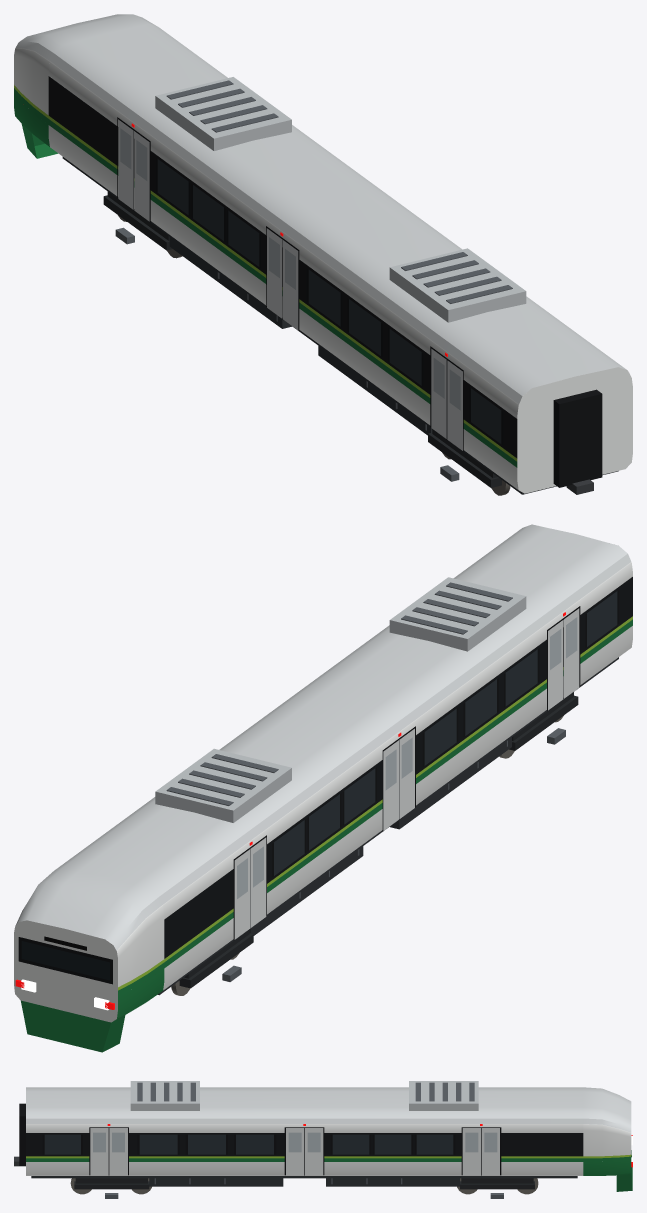
Rendered from taichung-mrt-lead.glb.
The picture shows the model from 3 angles, top to bottom: view 1: azimuth 30°, elevation 25°; view 2: azimuth 150°, elevation 25°; view 3: azimuth 270°, elevation 25°; orthographic projection. The views are drawn at different scales.
Parts seen in each view (by area): view 1: TaichungMRT_Lead; view 2: TaichungMRT_Lead; view 3: TaichungMRT_Lead.
Boxes of the visible parts, <box> form: TaichungMRT_Lead: <box>14,14,632,495</box>; TaichungMRT_Lead: <box>14,524,632,1052</box>; TaichungMRT_Lead: <box>14,1081,632,1198</box>.
Bounding box in the file's own units: 3.04 × 3.84 × 23.11.
